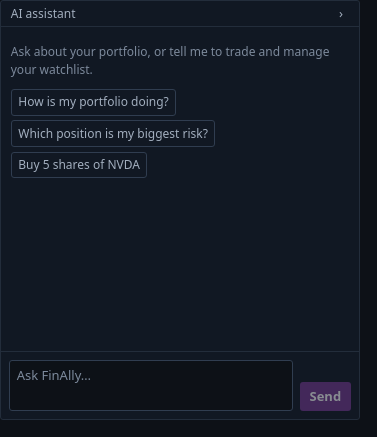
ChatPanel › shows the 503 detail text as an error and keeps the user message
Type "anything" into the text box with test id "chat-input" at (151, 386), box [9,360,293,411]
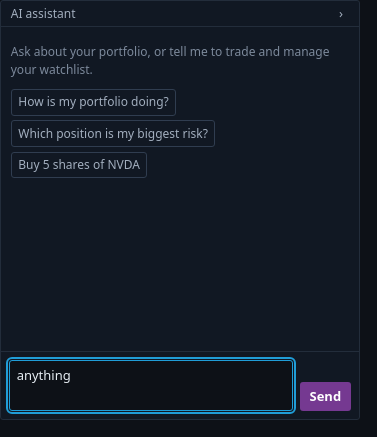
Click the button with test id "chat-send" at (325, 396), box [300,382,351,411]
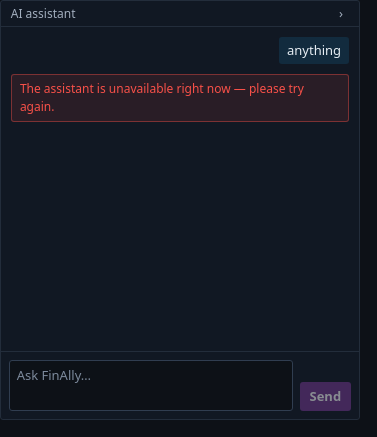
Expected: the message with test id "chat-error" shows "The assistant is unavailable right now", [20,80,304,115]
Expected: the number of elements with test id "chat-message-user" is 1, [279,37,349,64]
